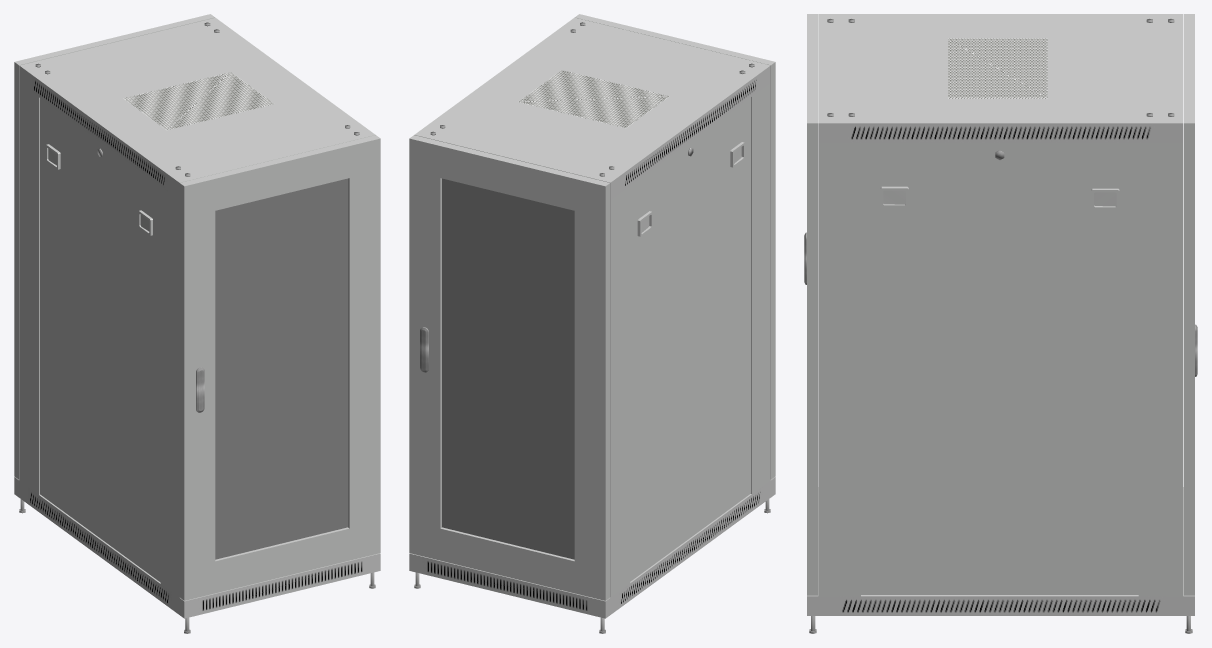
File: RKAG25.fbx
The picture shows the model from 3 angles, left to right: view 1: azimuth 30°, elevation 25°; view 2: azimuth 150°, elevation 25°; view 3: azimuth 270°, elevation 25°; orthographic projection. The views are drawn at different scales.
Parts seen in each view (by area): view 1: frontdoor, Box131, RKAG25, backdoor; view 2: backdoor, Box131, RKAG25, frontdoor; view 3: RKAG25, Box131, frontdoor, backdoor.
Part boxes in pixels (bbox=[...]): frontdoor: bbox=[179, 135, 380, 600]; Box131: bbox=[14, 17, 380, 633]; RKAG25: bbox=[40, 98, 160, 582]; backdoor: bbox=[14, 14, 214, 479]; backdoor: bbox=[409, 135, 610, 600]; Box131: bbox=[409, 17, 775, 633]; RKAG25: bbox=[630, 97, 750, 581]; frontdoor: bbox=[575, 14, 775, 479]; RKAG25: bbox=[861, 143, 1138, 594]; Box131: bbox=[807, 14, 1194, 633]; frontdoor: bbox=[804, 14, 817, 595]; backdoor: bbox=[1184, 14, 1197, 595].
Bounding box in the file's own units: 610 × 1316 × 913.
Materials: 6 (5 with a texture image).
